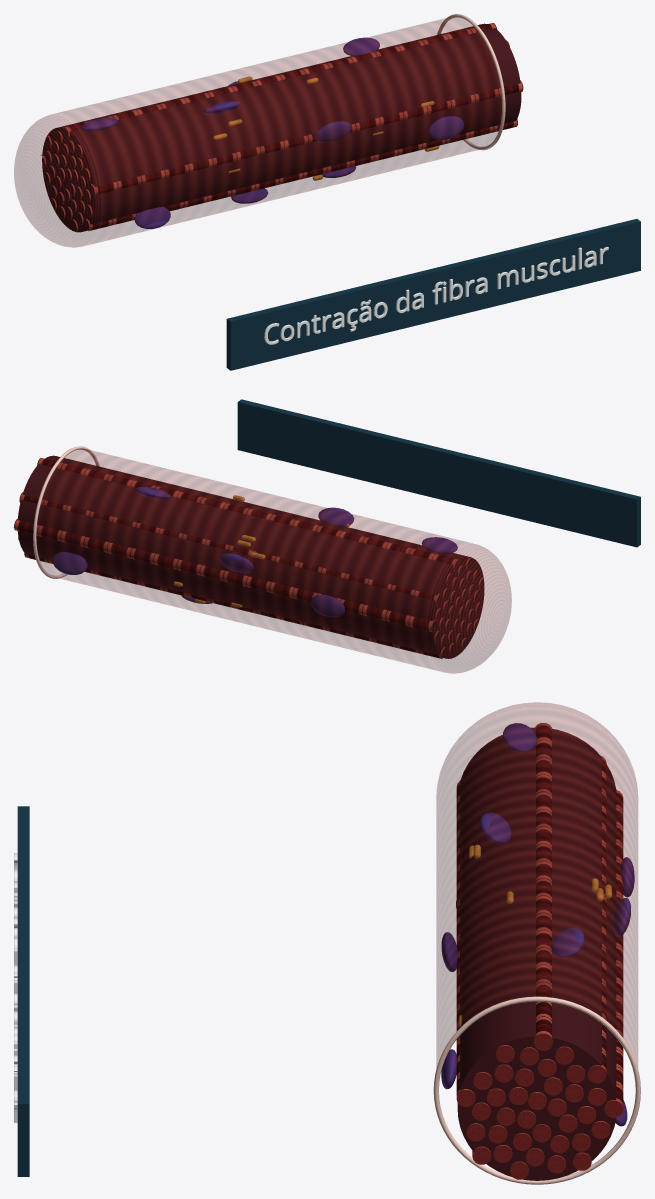
Rendered from nivel-3.glb.
3 renders of one model, top to bottom at view 1: azimuth 30°, elevation 25°; view 2: azimuth 150°, elevation 25°; view 3: azimuth 270°, elevation 25°, orthographic. The views are drawn at different scales.
Parts seen in each view (by area): view 1: movel_6, movel_3, placa_solida, movel_1, movel_7, movel_5, texto_em_relevo, movel_8, movel_4; view 2: movel_6, movel_3, placa_solida, movel_1, movel_7, movel_5, movel_8, movel_4; view 3: movel_6, movel_3, movel_1, movel_2, placa_solida, movel_5, movel_8, texto_em_relevo, movel_7.
Boxes of the visible parts, x1,y1,x2,y2 form: movel_6: (55, 16, 501, 244); movel_3: (42, 23, 521, 232); placa_solida: (226, 219, 640, 370); movel_1: (40, 23, 523, 231); movel_7: (14, 114, 100, 247); movel_5: (81, 37, 464, 228); texto_em_relevo: (264, 247, 608, 344); movel_8: (437, 14, 505, 150); movel_4: (203, 76, 439, 180); movel_6: (36, 448, 471, 671); movel_3: (17, 455, 484, 658); placa_solida: (237, 399, 640, 547); movel_1: (14, 458, 483, 658); movel_7: (427, 544, 511, 673); movel_5: (52, 486, 457, 617); movel_8: (33, 446, 99, 578); movel_4: (173, 495, 349, 607); movel_6: (436, 707, 637, 1067); movel_3: (457, 727, 616, 1180); movel_1: (456, 723, 623, 1169); movel_2: (456, 1034, 623, 1179); placa_solida: (17, 806, 29, 1176); movel_5: (441, 723, 634, 1126); movel_8: (433, 996, 640, 1184); texto_em_relevo: (14, 853, 17, 1122); movel_7: (440, 702, 634, 772).
Size of the model in its own units: 0.55 by 0.1413 by 0.4273.
9 materials, 3 textured.
